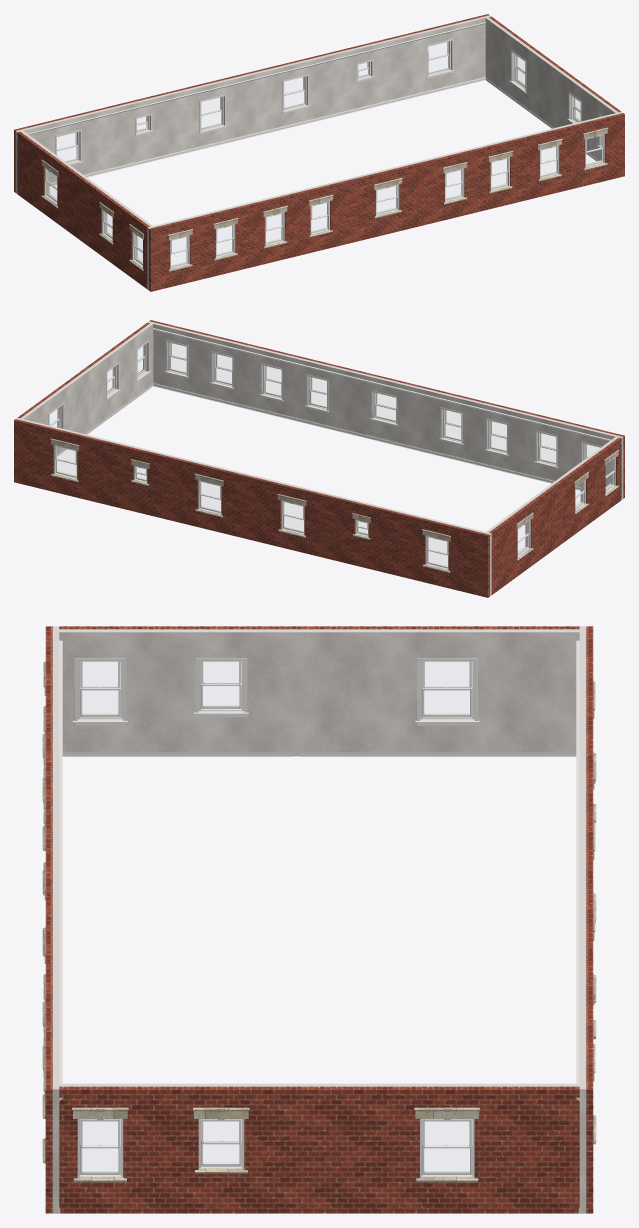
File: shell_t.glb
3 views of the same model, one above another, from view 1: azimuth 30°, elevation 25°; view 2: azimuth 150°, elevation 25°; view 3: azimuth 270°, elevation 25° (orthographic). The views are drawn at different scales.
Parts seen in each view (by area): view 1: shell_t_brick, shell_t_plaster, shell_t_glass, molduras, shell_t_sash, shell_t_stone_c, shell_t_trim, shell_t_frame; view 2: shell_t_brick, shell_t_plaster, shell_t_glass, shell_t_trim, molduras, shell_t_sash, shell_t_frame, shell_t_stone_c; view 3: shell_t_brick, shell_t_plaster, shell_t_glass, shell_t_trim, shell_t_stone_c, shell_t_sash, molduras, shell_t_frame.
Boxes of the visible parts, x1,y1,x2,y2 form: shell_t_brick: (14, 14, 624, 291); shell_t_plaster: (15, 15, 622, 290); shell_t_glass: (47, 43, 601, 264); molduras: (17, 22, 486, 232); shell_t_sash: (45, 41, 603, 267); shell_t_stone_c: (41, 80, 607, 271); shell_t_trim: (49, 39, 601, 265); shell_t_frame: (44, 41, 604, 268); shell_t_brick: (14, 320, 624, 597); shell_t_plaster: (16, 321, 623, 596); shell_t_glass: (50, 344, 613, 565); shell_t_trim: (48, 340, 611, 566); molduras: (152, 328, 621, 538); shell_t_sash: (49, 343, 615, 568); shell_t_frame: (54, 342, 615, 569); shell_t_stone_c: (50, 369, 619, 572); shell_t_brick: (45, 626, 593, 1213); shell_t_plaster: (52, 626, 586, 1213); shell_t_glass: (83, 662, 469, 1170); shell_t_trim: (62, 658, 576, 1171); shell_t_stone_c: (42, 661, 596, 1182); shell_t_sash: (80, 661, 472, 1174); molduras: (59, 640, 579, 1213); shell_t_frame: (77, 661, 474, 1176).
Size of the model in its own units: 24.12 by 3 by 12.12.
Materials: 8 (3 with a texture image).
